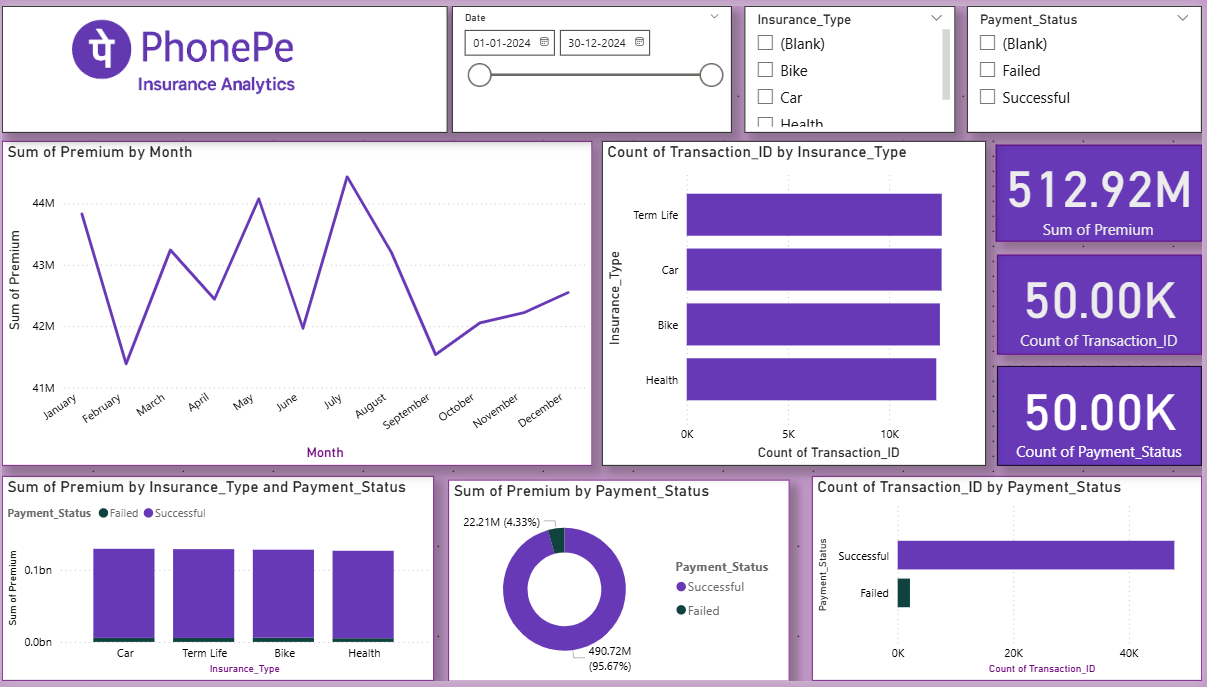

What the dashboard file says about the page in this screenshot:
{"tool":"powerbi","page":{"name":"Insurance","canvas":[1280,720],"ordinal":1},"visuals":[{"type":"card","fields":{"Values":["CountNonNull(Insurance.Transaction_ID)"]},"box":[1061.8,264.7,218.2,106.2],"z":0},{"type":"card","fields":{"Values":["Sum(Insurance.Premium)"]},"box":[1060.4,148.4,219.6,103.3],"z":1000},{"type":"columnChart","fields":{"Category":["Insurance.Insurance_Type"],"Y":["Sum(Insurance.Premium)"],"Series":["Insurance.Payment_Status"]},"box":[0,501.8,461.1,218.2],"z":2000},{"type":"lineChart","fields":{"Category":["Insurance.Date.Variation.Date Hierarchy.Month"],"Y":["Sum(Insurance.Premium)"]},"box":[0,144.6,629.2,346.2],"z":3000},{"type":"donutChart","fields":{"Category":["Insurance.Payment_Status"],"Y":["Sum(Insurance.Premium)"]},"box":[475.6,504.7,363.6,215.3],"z":4000},{"type":"barChart","fields":{"Category":["Insurance.Payment_Status"],"Y":["CountNonNull(Insurance.Transaction_ID)"]},"box":[864,501.8,416,218.2],"z":5000},{"type":"image","box":[0,0,475.4,135.4],"z":6000},{"type":"card","fields":{"Values":["CountNonNull(Insurance.Payment_Status)"]},"box":[1061.8,384,218.2,106.2],"z":7000},{"type":"slicer","fields":{"Values":["Insurance.Date"]},"box":[480,0,298.5,135.4],"z":8000},{"type":"slicer","fields":{"Values":["Insurance.Insurance_Type"]},"box":[792.3,0,224.6,135.4],"z":9000},{"type":"slicer","fields":{"Values":["Insurance.Payment_Status"]},"box":[1029.8,0,250.2,135.3],"z":10000},{"type":"barChart","fields":{"Category":["Insurance.Insurance_Type"],"Y":["CountNonNull(Insurance.Transaction_ID)"]},"box":[640,144.6,409.2,346.2],"z":11000}]}

Visuals, with their boxes in screenshot pixels (x1, y1, x2, y2), scaled from the page's 1280x720 canvas onto the 1207x687 screenshot:
card - CountNonNull(Insurance.Transaction_ID): crop(1001, 253, 1206, 354)
card - Sum(Insurance.Premium): crop(1000, 142, 1206, 240)
columnChart - Insurance.Insurance_Type x Sum(Insurance.Premium): crop(0, 479, 435, 686)
lineChart - Insurance.Date.Variation.Date Hierarchy.Month x Sum(Insurance.Premium): crop(0, 138, 593, 468)
donutChart - Insurance.Payment_Status x Sum(Insurance.Premium): crop(448, 482, 791, 686)
barChart - Insurance.Payment_Status x CountNonNull(Insurance.Transaction_ID): crop(815, 479, 1206, 686)
image: crop(0, 0, 448, 129)
card - CountNonNull(Insurance.Payment_Status): crop(1001, 366, 1206, 468)
slicer - Insurance.Date: crop(453, 0, 734, 129)
slicer - Insurance.Insurance_Type: crop(747, 0, 959, 129)
slicer - Insurance.Payment_Status: crop(971, 0, 1206, 129)
barChart - Insurance.Insurance_Type x CountNonNull(Insurance.Transaction_ID): crop(604, 138, 989, 468)
